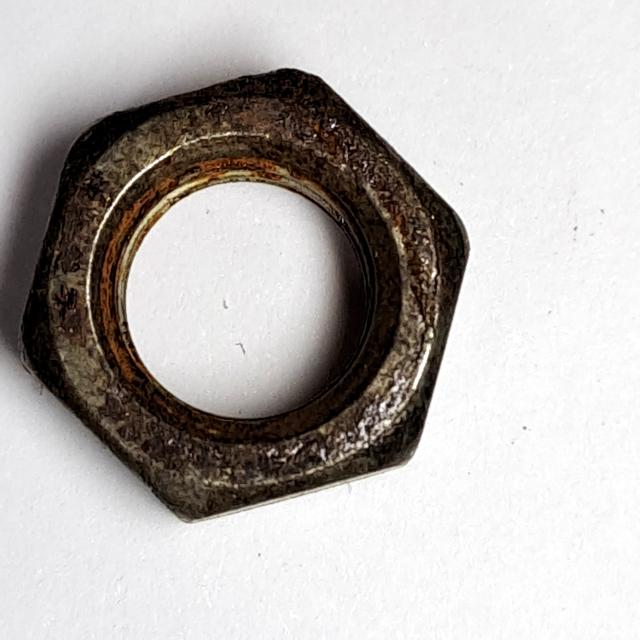Rust: (10, 62, 483, 534)
